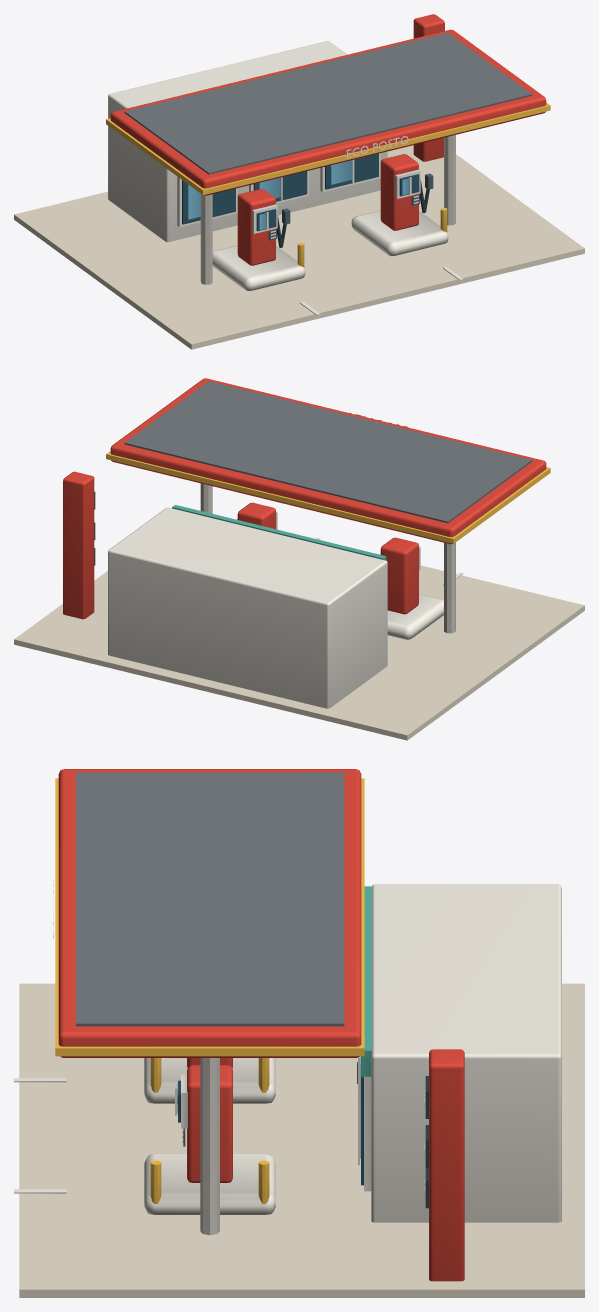
Rendered from fuel-station.glb.
The picture shows the model from 3 angles, top to bottom: view 1: azimuth 30°, elevation 25°; view 2: azimuth 150°, elevation 25°; view 3: azimuth 270°, elevation 25°; orthographic projection. The views are drawn at different scales.
Visible parts, largest first — view 1: forecourt, grey canopy roof, shop, red canopy, yellow fascia, blue glazing, reflection; view 2: shop, grey canopy roof, forecourt, red canopy, yellow fascia, shop fascia; view 3: forecourt, shop, grey canopy roof, red canopy, yellow fascia, shop fascia.
Part boxes in pixels (x1=…): forecourt: x1=14, y1=145, x2=584, y2=349; grey canopy roof: x1=124, y1=32, x2=532, y2=174; shop: x1=108, y1=41, x2=463, y2=315; red canopy: x1=110, y1=14, x2=546, y2=265; yellow fascia: x1=106, y1=102, x2=550, y2=267; blue glazing: x1=182, y1=153, x2=419, y2=231; reflection: x1=188, y1=160, x2=409, y2=229; shop: x1=108, y1=412, x2=463, y2=708; grey canopy roof: x1=124, y1=381, x2=532, y2=523; forecourt: x1=14, y1=565, x2=584, y2=740; red canopy: x1=63, y1=378, x2=546, y2=619; yellow fascia: x1=106, y1=451, x2=550, y2=543; shop fascia: x1=172, y1=505, x2=386, y2=560; forecourt: x1=19, y1=983, x2=584, y2=1297; shop: x1=14, y1=880, x2=561, y2=1235; grey canopy roof: x1=76, y1=772, x2=344, y2=1026; red canopy: x1=58, y1=769, x2=464, y2=1281; yellow fascia: x1=55, y1=778, x2=364, y2=1203; shop fascia: x1=361, y1=886, x2=371, y2=1076.
Size of the model in its own units: 5.5 by 2.07 by 4.34.
